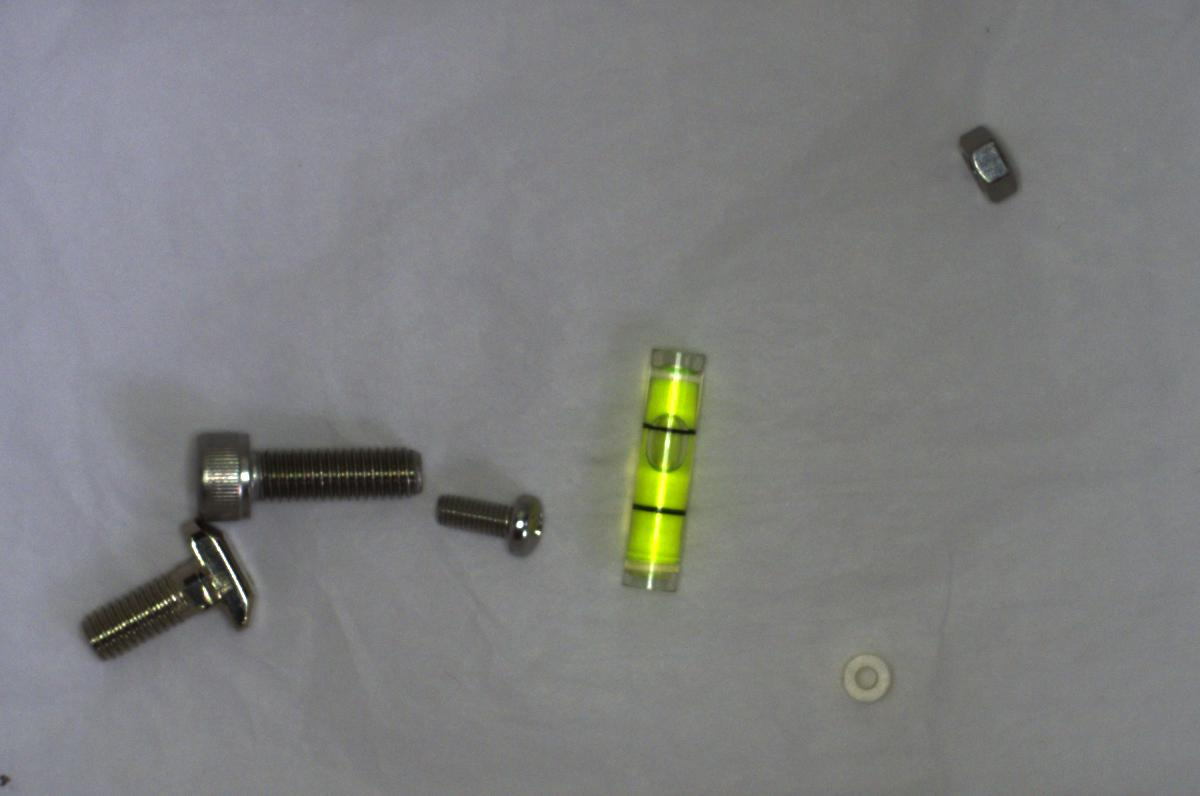Hexagon nut: (950, 120, 1035, 206)
Hexagon screw: (177, 419, 432, 523)
Horizontal bubble: (617, 338, 713, 605)
Plastic cushion pillar: (831, 639, 908, 712)
Round head screw: (422, 489, 554, 561)
T-shaped screw: (70, 510, 266, 661)
